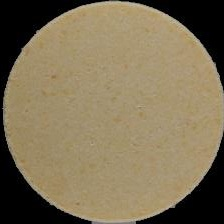0169-0082: (0, 0, 224, 224)
